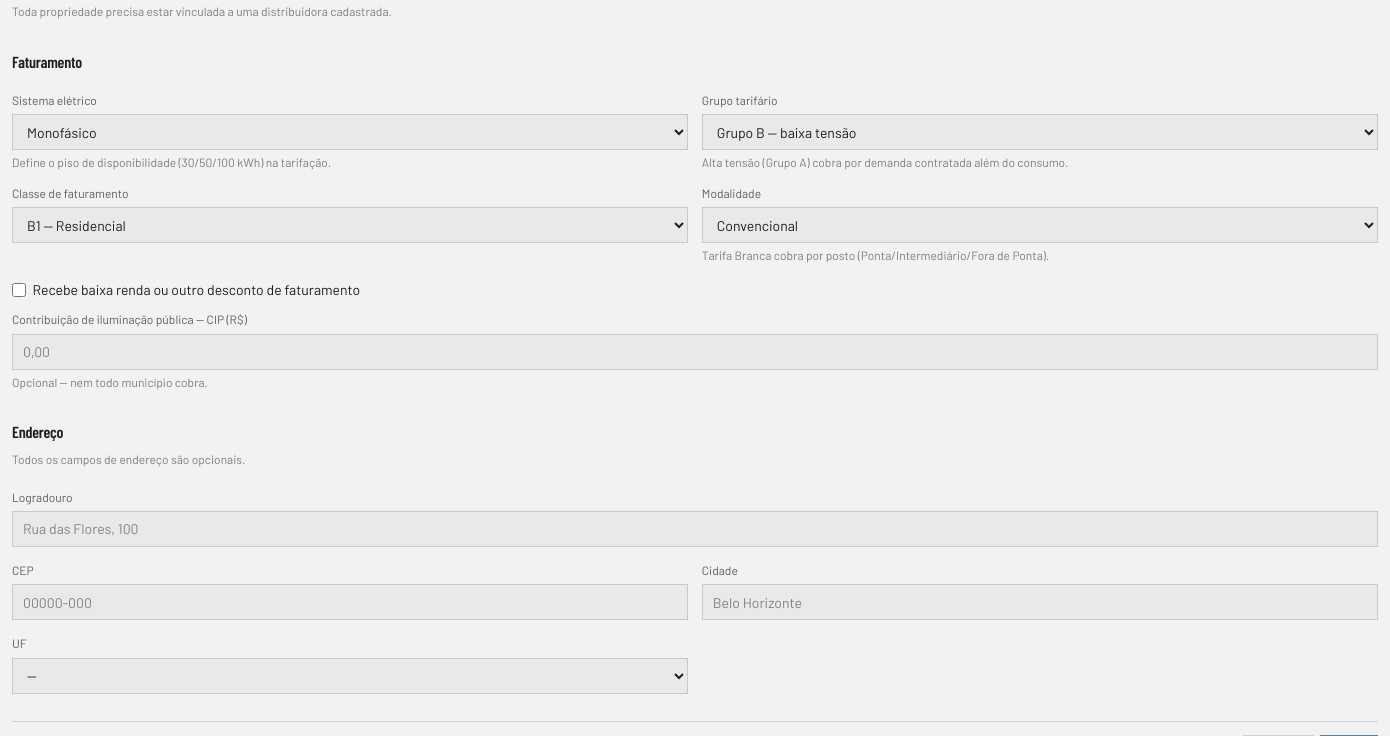
Test: PropertyForm — validação › rejeita CEP com sequência repetida (00000-000)
This screenshot has width=1390, height=736.
(page scrolled)
Type "00000000" into the field labelled "CEP" at [350, 602], box 12,584 -> 688,620
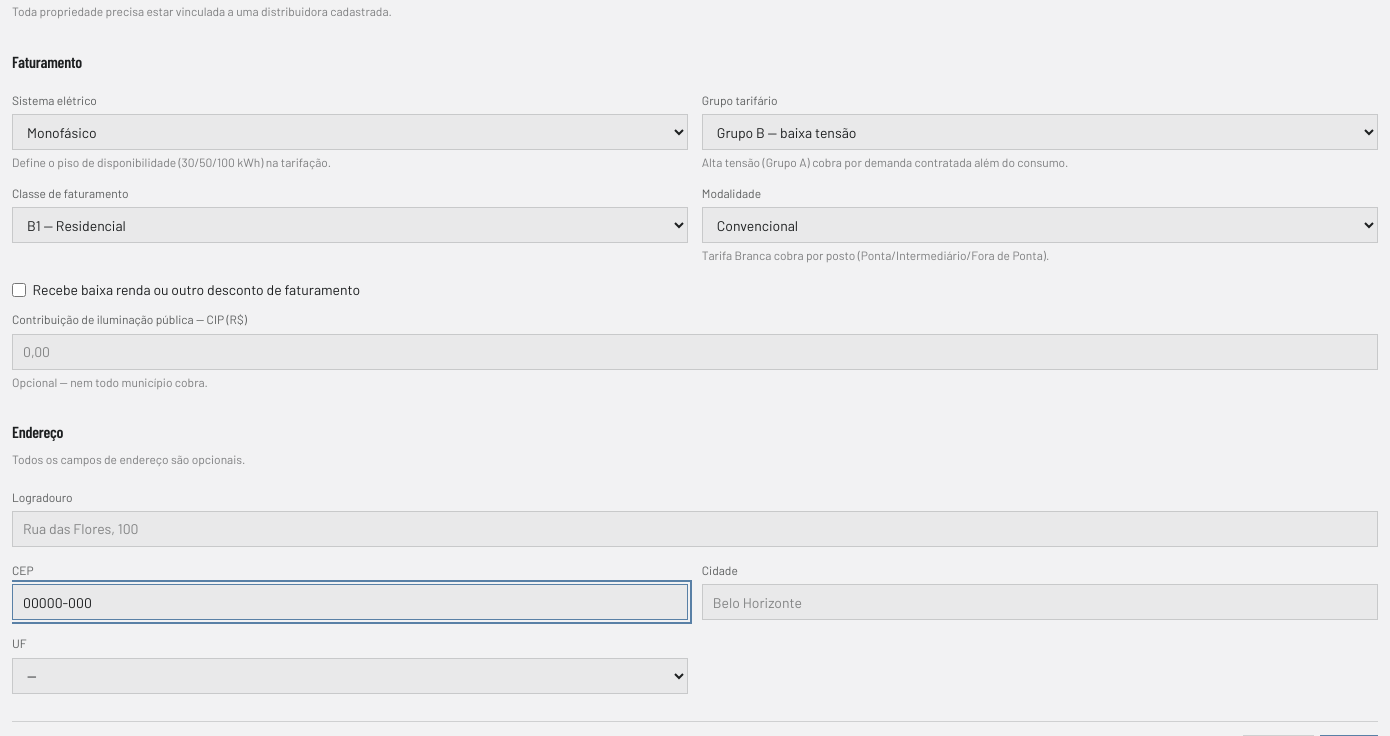
Press Tab
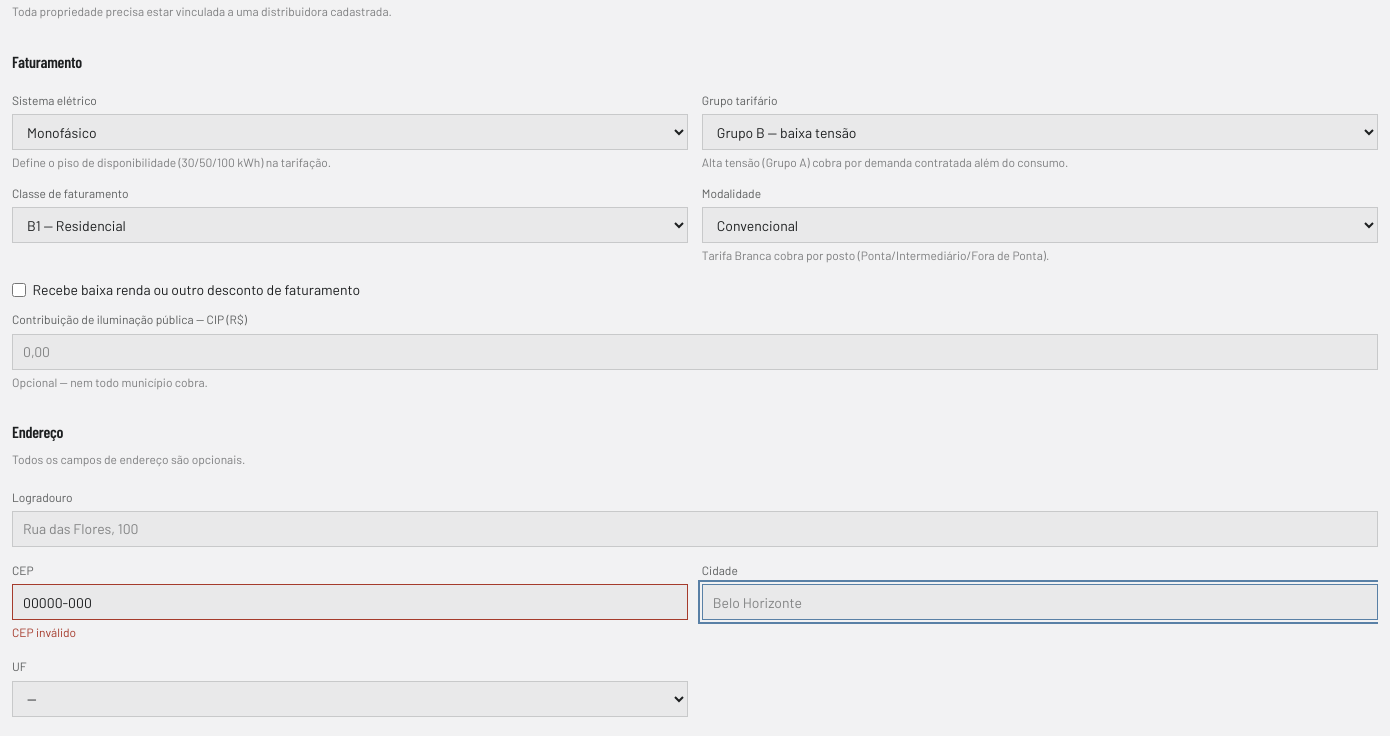
Expected: the text "CEP inválido" is shown, 12,625 -> 76,639
